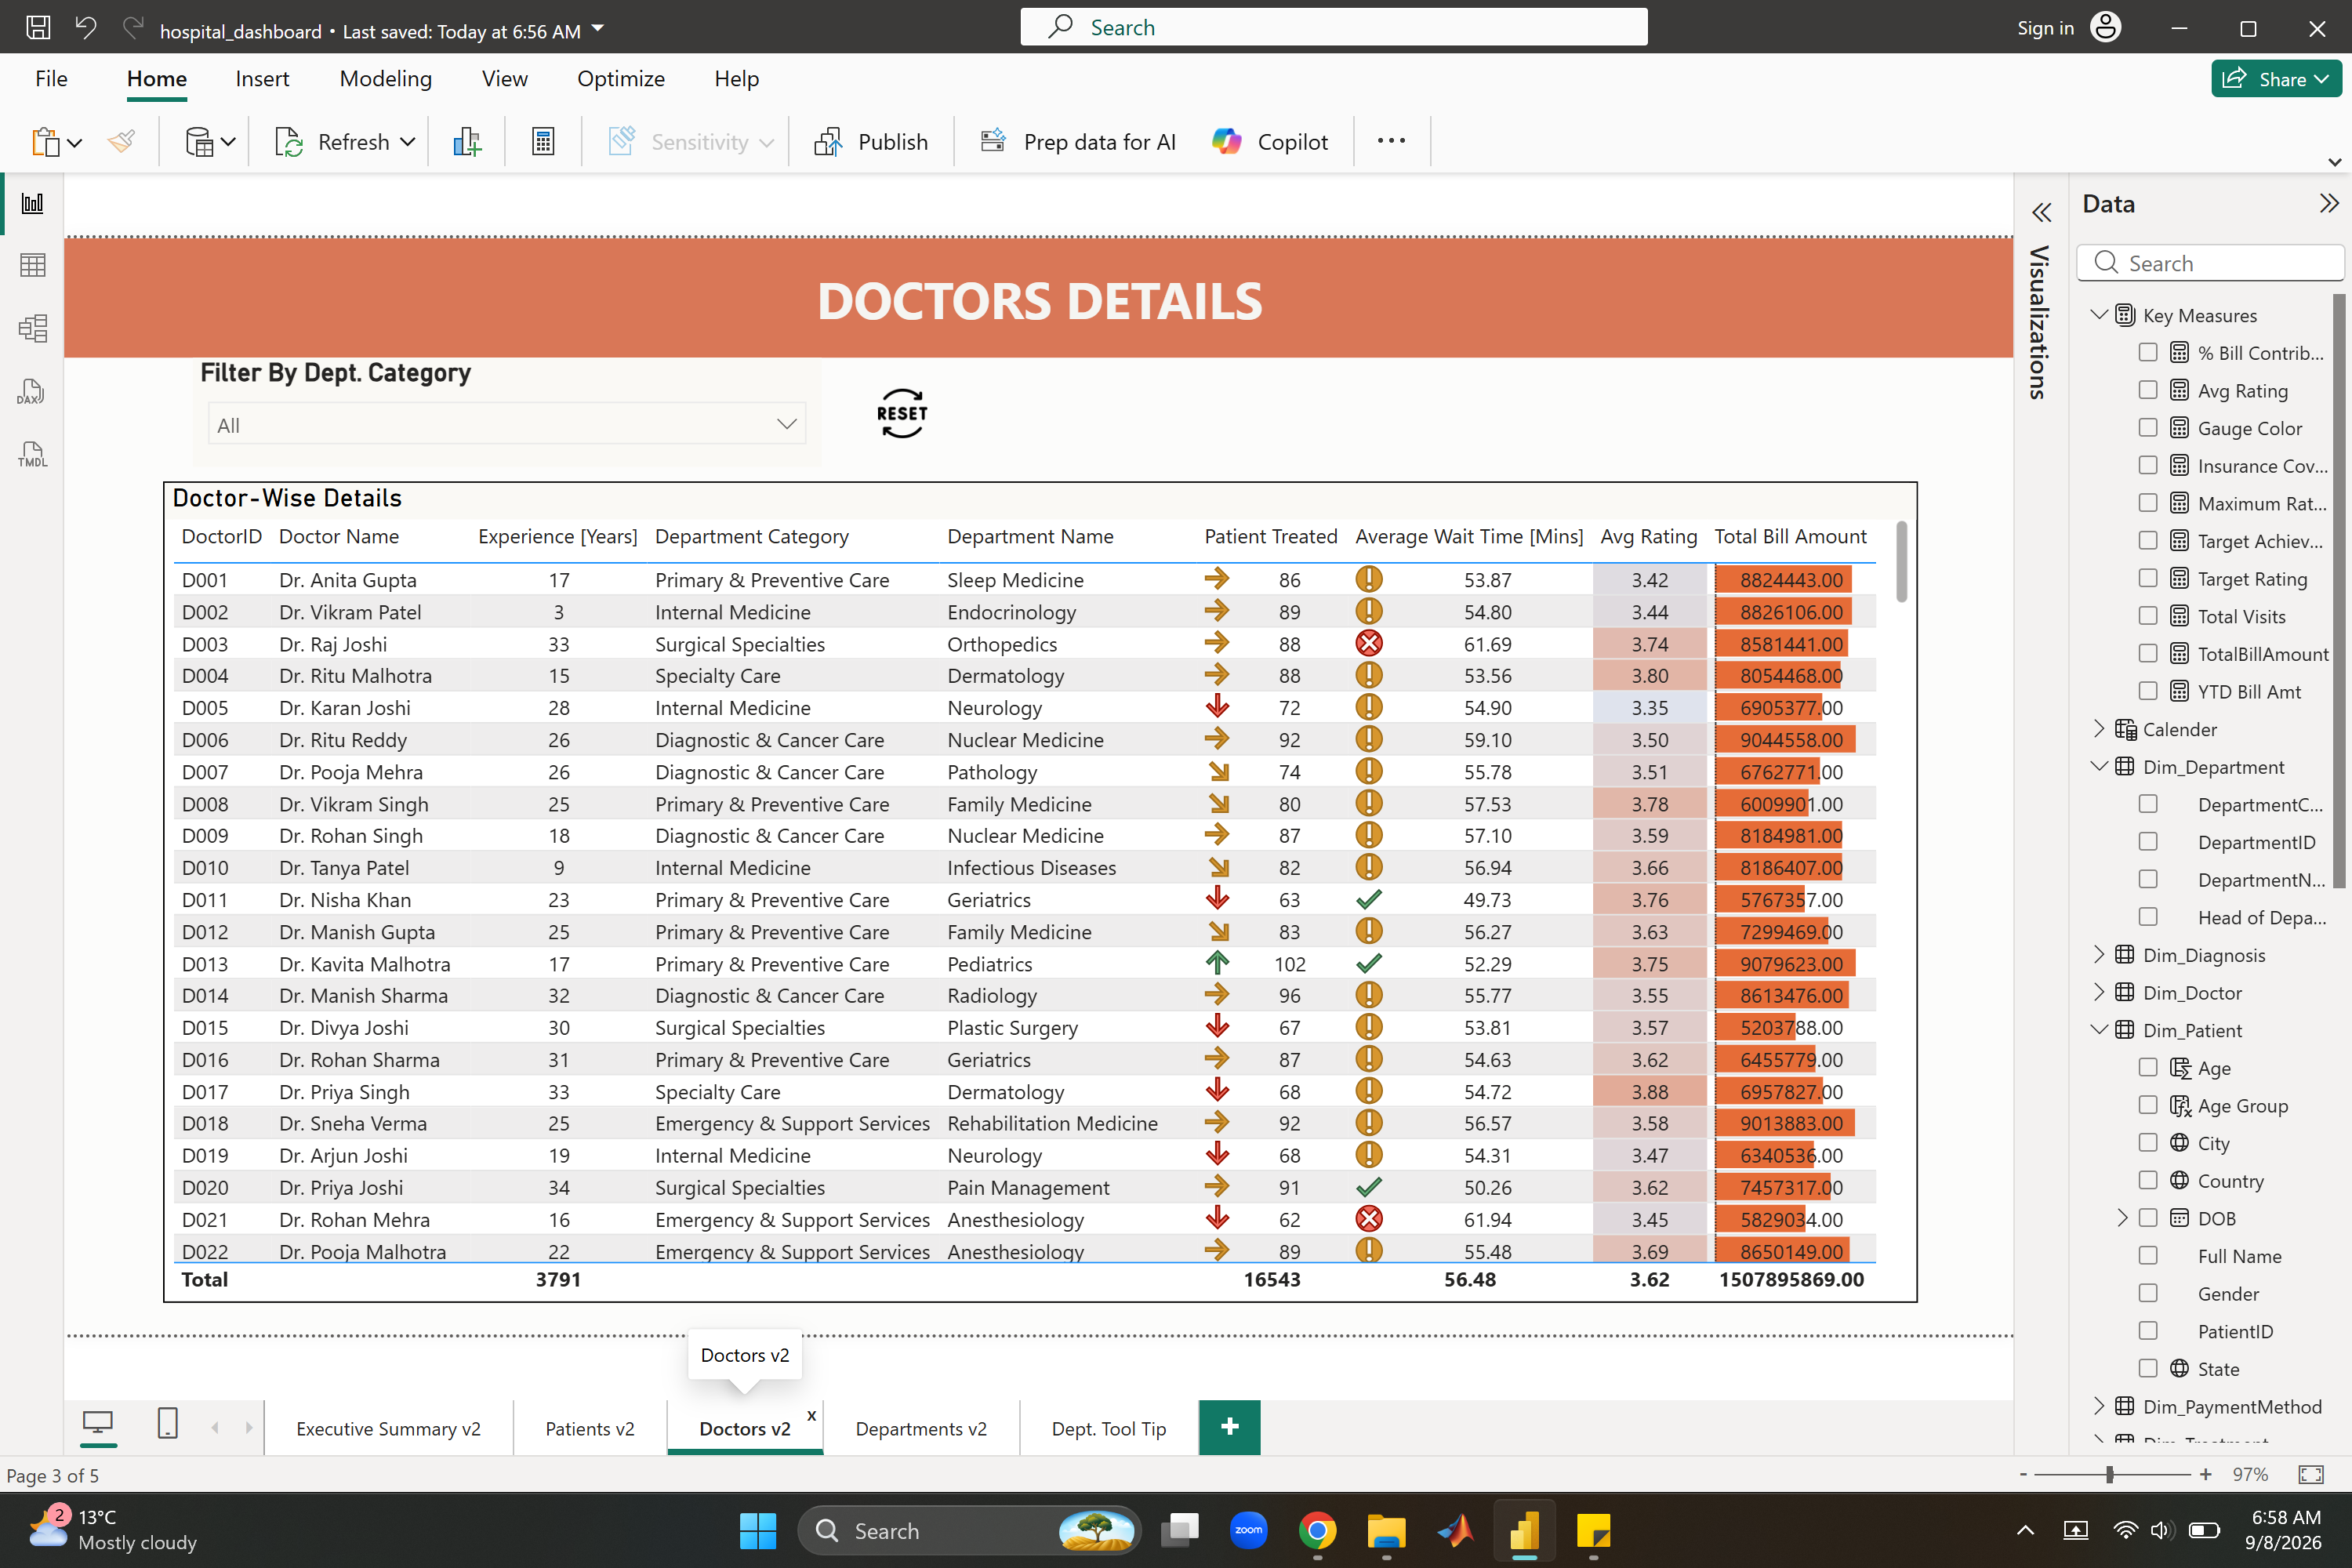

What the dashboard file says about the page in this screenshot:
{"tool":"powerbi","page":{"name":"Doctors v2","canvas":[1280,720],"ordinal":2},"visuals":[{"type":"shape","box":[0,0,1281.2,78.4],"z":0},{"type":"tableEx","title":"Doctor-Wise Details","fields":{"Values":["Dim_Doctor.DoctorID","Dim_Doctor.Full Name","Sum(Dim_Doctor.ExperienceYears)","Dim_Department.DepartmentCategory","Dim_Department.DepartmentName","fact_patientVisits.PatientID","Avg(fact_patientVisits.WaitTimeMinutes)","Key Measures.Avg Rating","Key Measures.TotalBillAmount"]},"box":[64.4,159.7,1152.5,539.6],"z":2000},{"type":"slicer","title":"Filter By Dept. Category","fields":{"Values":["Dim_Department.DepartmentCategory"]},"box":[84.6,78.4,413,72.1],"z":3000},{"type":"actionButton","box":[530.6,94.2,100,40.6],"z":4000}]}

Visuals, with their boxes on the page's 1280x720 design canvas (x1, y1, x2, y2). These are canvas units, not pixel positions in the 2352x1568 screenshot, which may show the page scaled, cropped or inside an application window:
shape: rect(0, 0, 1281, 78)
"Doctor-Wise Details" tableEx: rect(64, 160, 1217, 699)
"Filter By Dept. Category" slicer: rect(85, 78, 498, 150)
actionButton: rect(531, 94, 631, 135)
